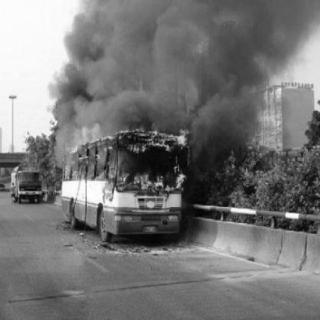Fire: (56, 125, 198, 203)
